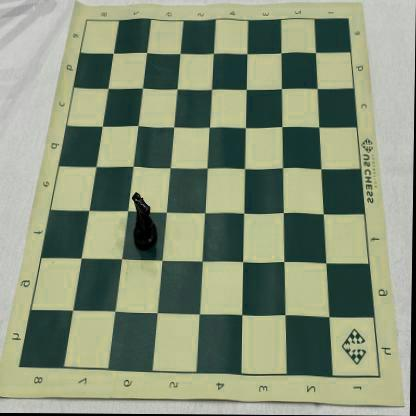black-knight: (132, 192, 160, 253)
